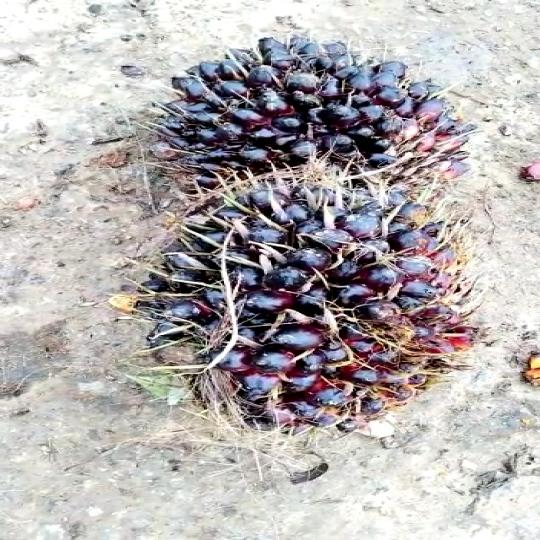mentah: (143, 175, 484, 429), (120, 36, 508, 196)
